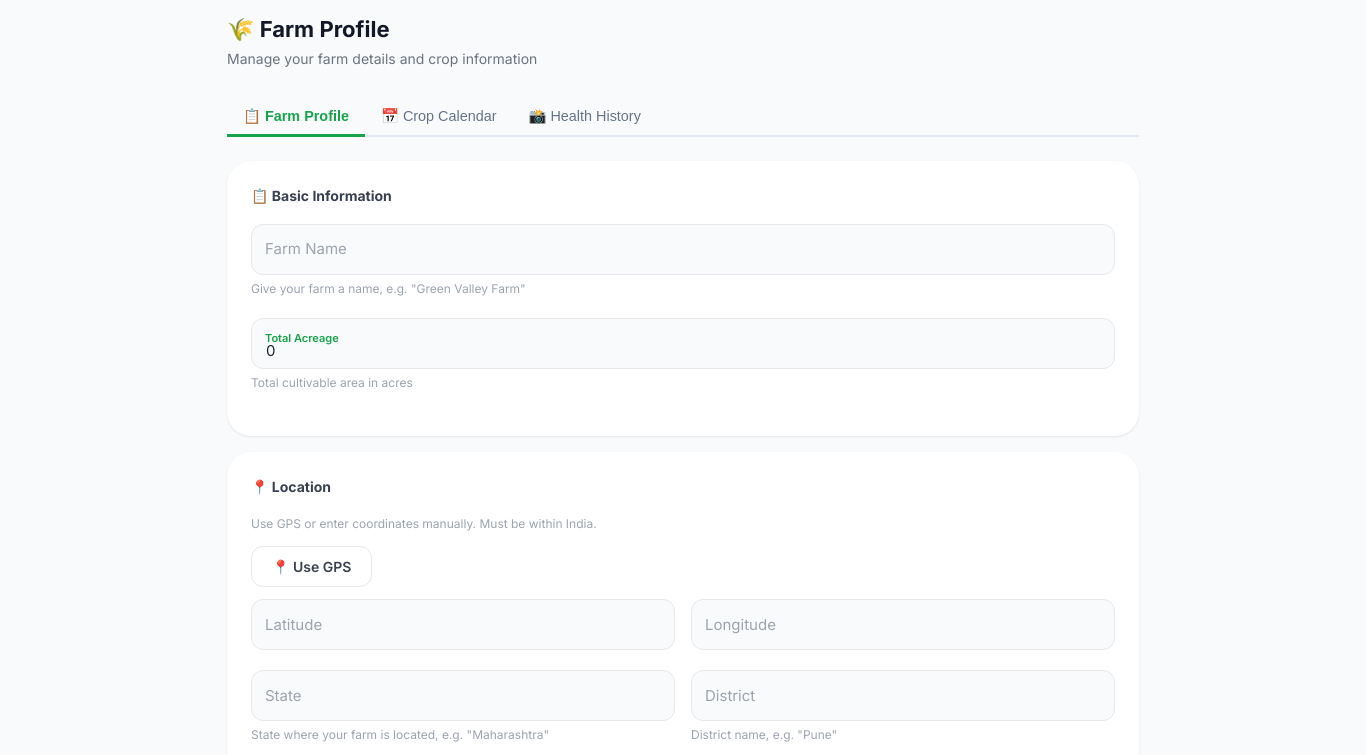
Test case: saves profile to localStorage
Type "My Farm" into the field with test id "farm-name". click: (683, 249)
box: [251,224,1115,275]
(page scrolled)
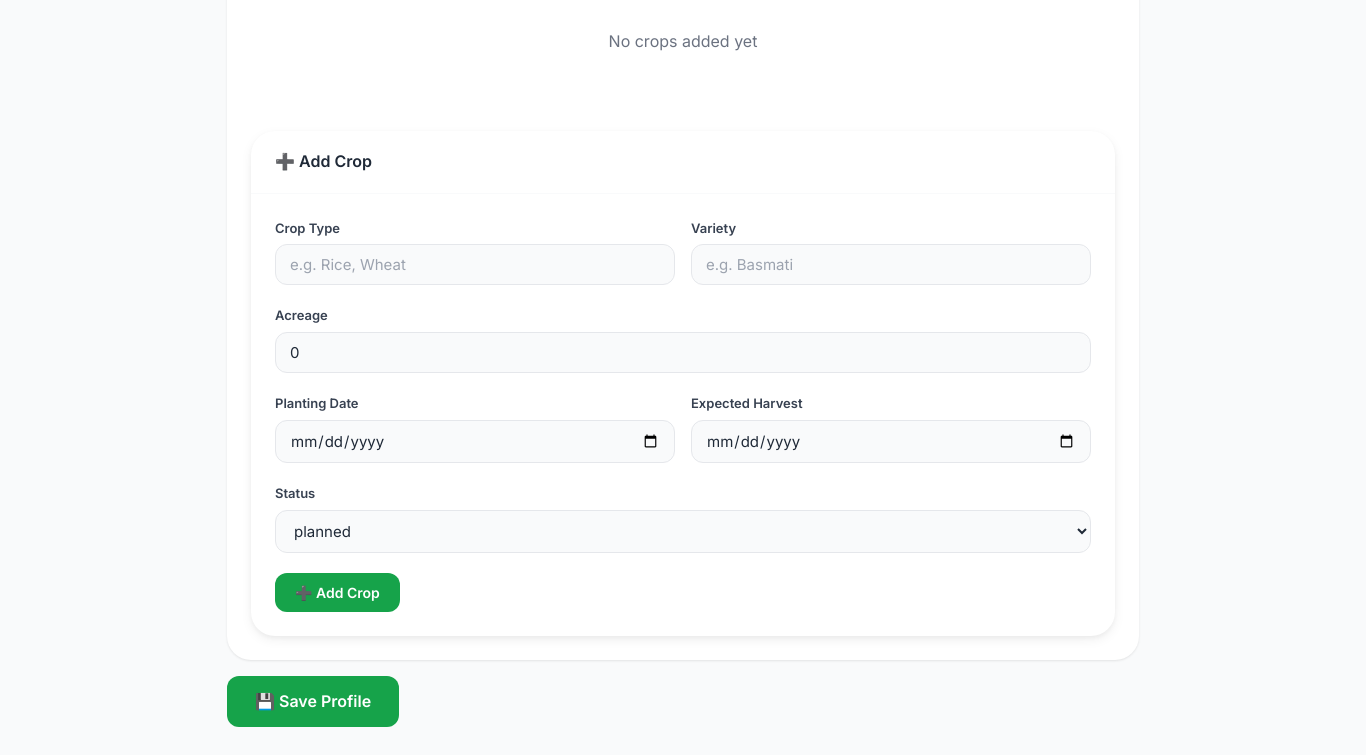
Click the button with test id "farm-save". click: click(313, 702)
box: [227,676,399,727]
(page scrolled)
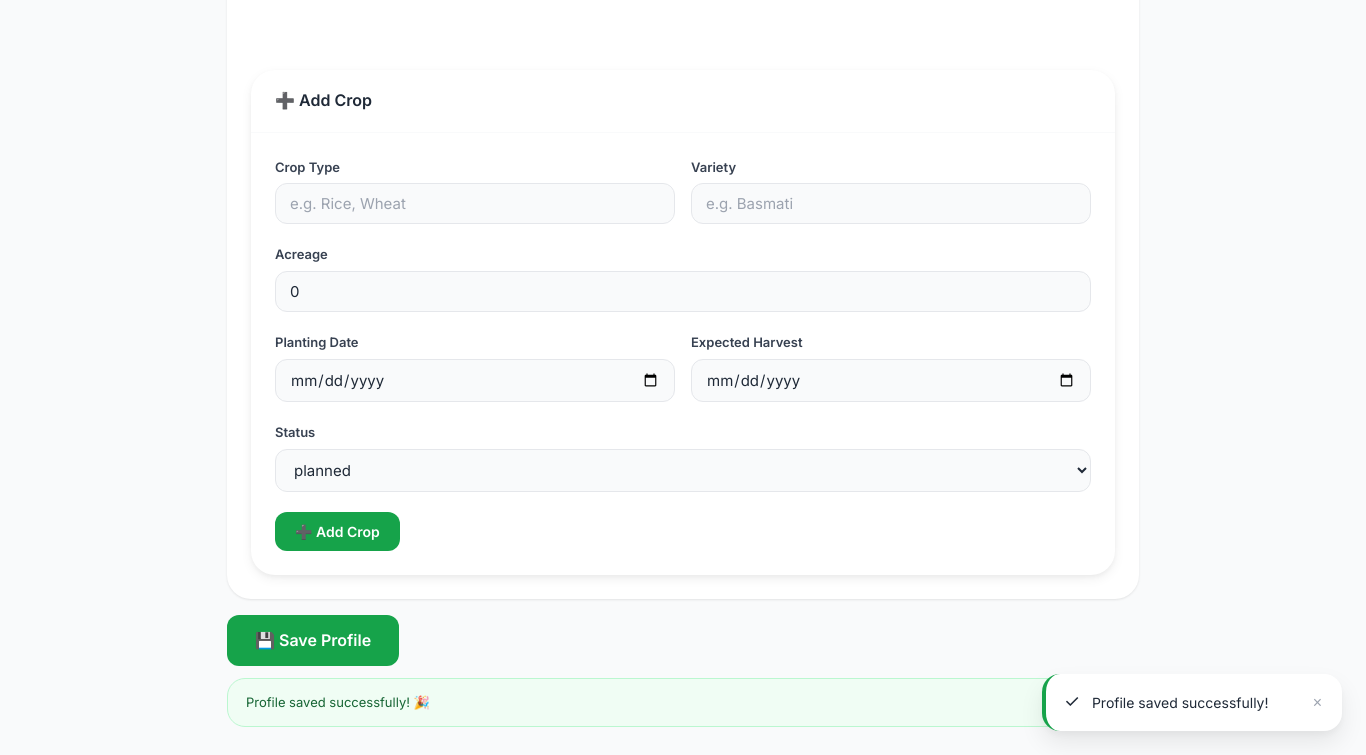
Result: the message with test id "farm-saved" shows "Profile saved" at [246,694,410,710]
